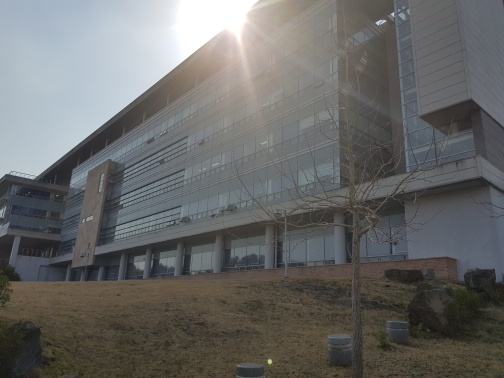Engineering College Building 4: (15, 50, 502, 274), (194, 8, 501, 271), (23, 94, 186, 275), (225, 22, 338, 264)
